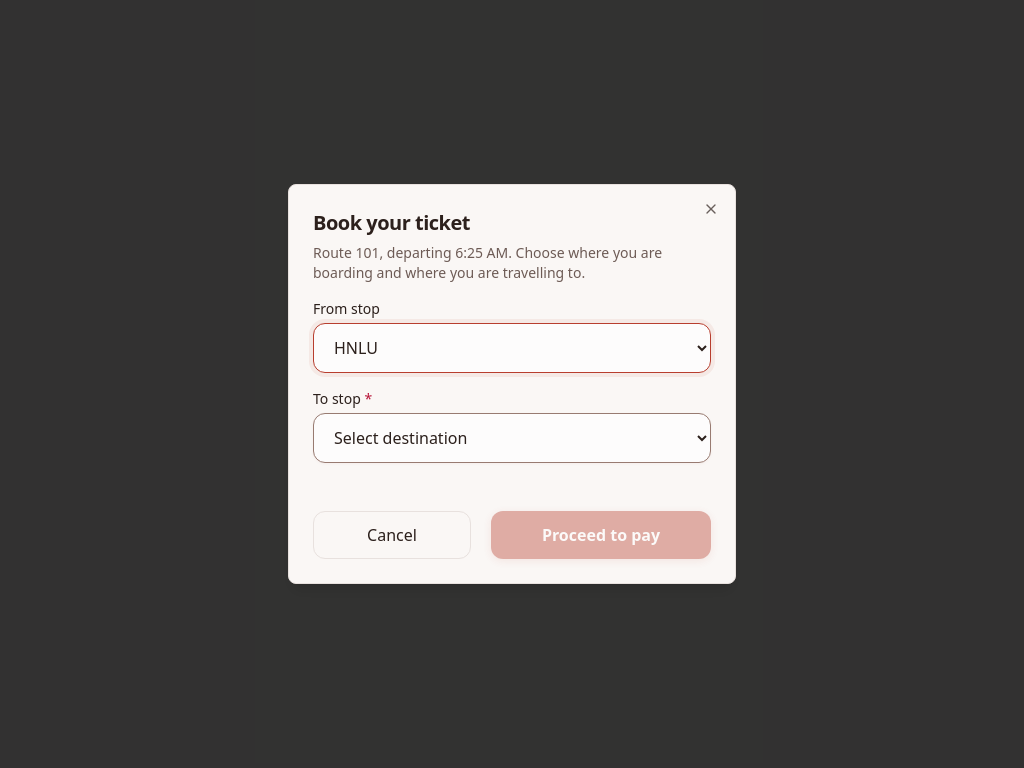
Test case: the journey summary › shows the fare and the scheduled times for the chosen stops
Select "CBD" in the dropdown labelled "To stop *": x=512, y=438 [313,413,711,463]
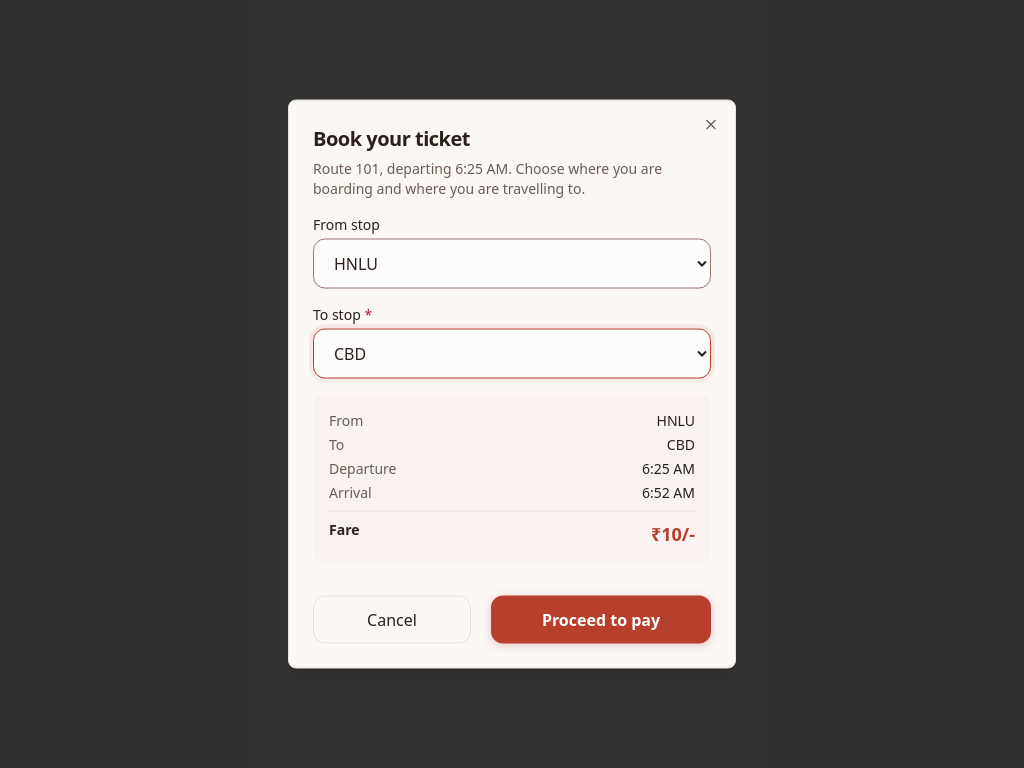
Expected: the text "₹10/-" is shown, [651,520,695,548]
Expected: the text "6:25 AM" is shown, [642,458,695,478]
Expected: the text "6:52 AM" is shown, [642,482,695,502]
